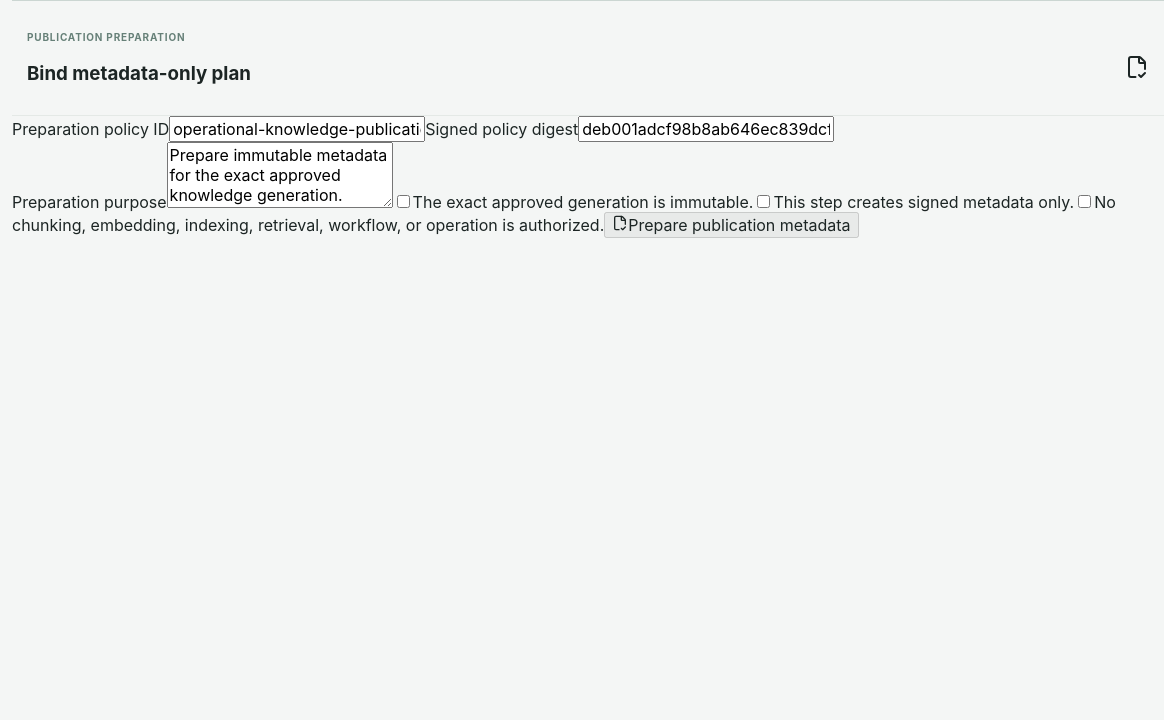
Test: PublicationPreparationPanel › creates metadata-only preparation without processing authority
This screenshot has width=1164, height=720.
Expected: the button "Prepare publication metadata" is disabled, [604,212,858,238]
Click the checkbox labelled "The exact approved generation is immutable." at x=403, y=202, box [397,195,410,208]
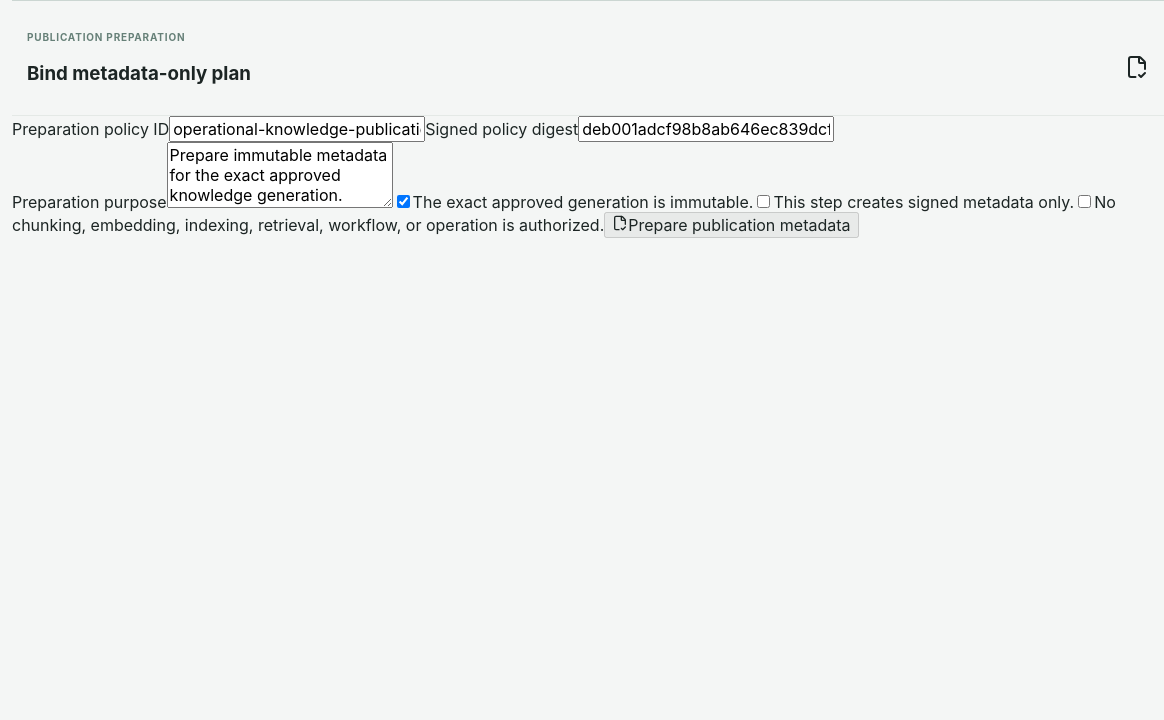
Click the checkbox labelled "This step creates signed metadata only." at x=764, y=202, box [757,195,770,208]
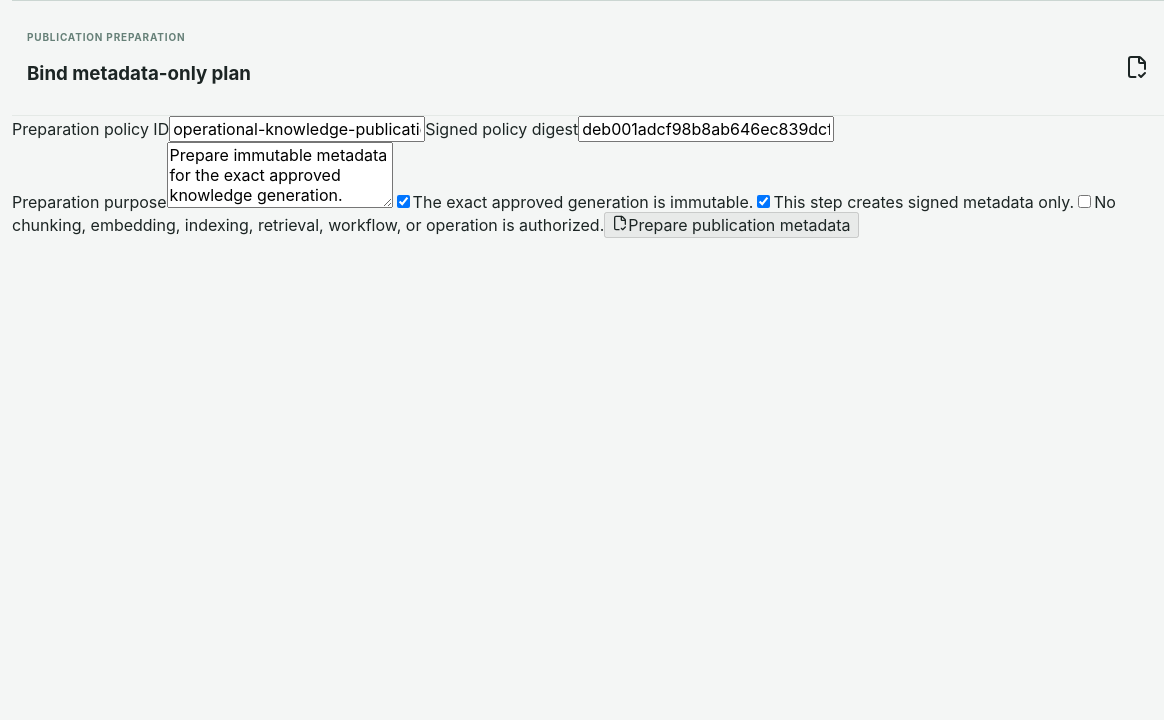
Click the checkbox named "No chunking, embedding, indexing, retrieval, workflow, or operation is authorized." at x=1085, y=202, box [1078,195,1091,208]
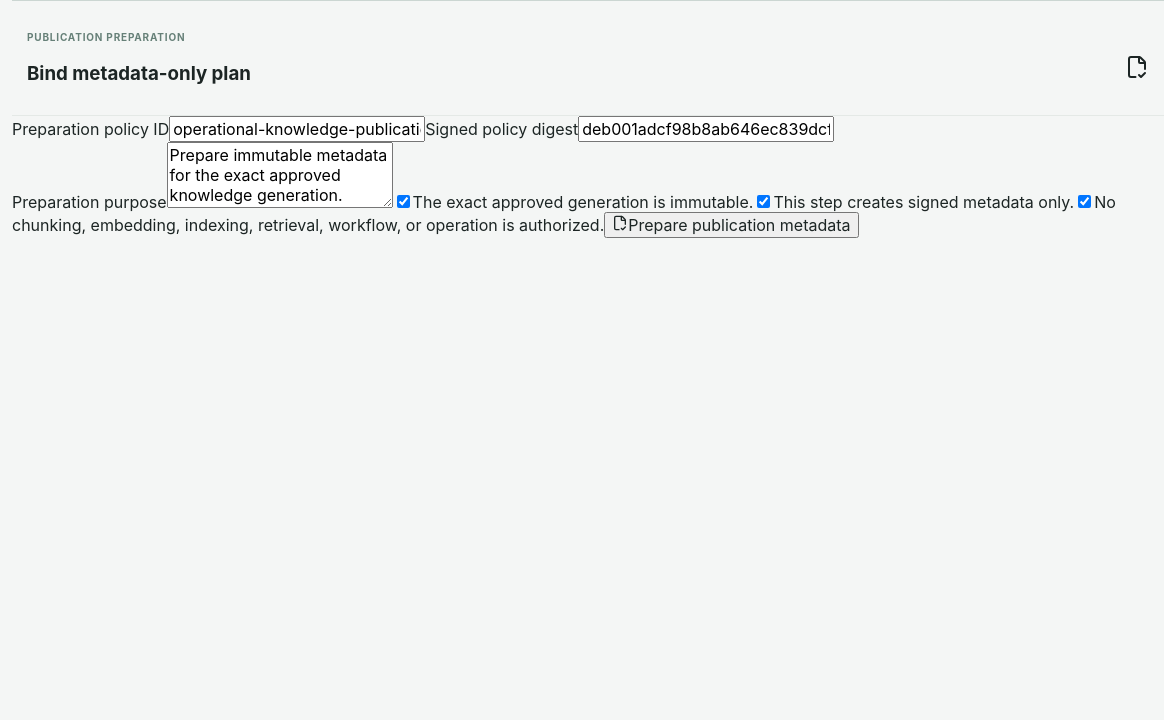
Expected: the button "Prepare publication metadata" is enabled
Click the button "Prepare publication metadata" at x=731, y=225, box [604,212,858,238]
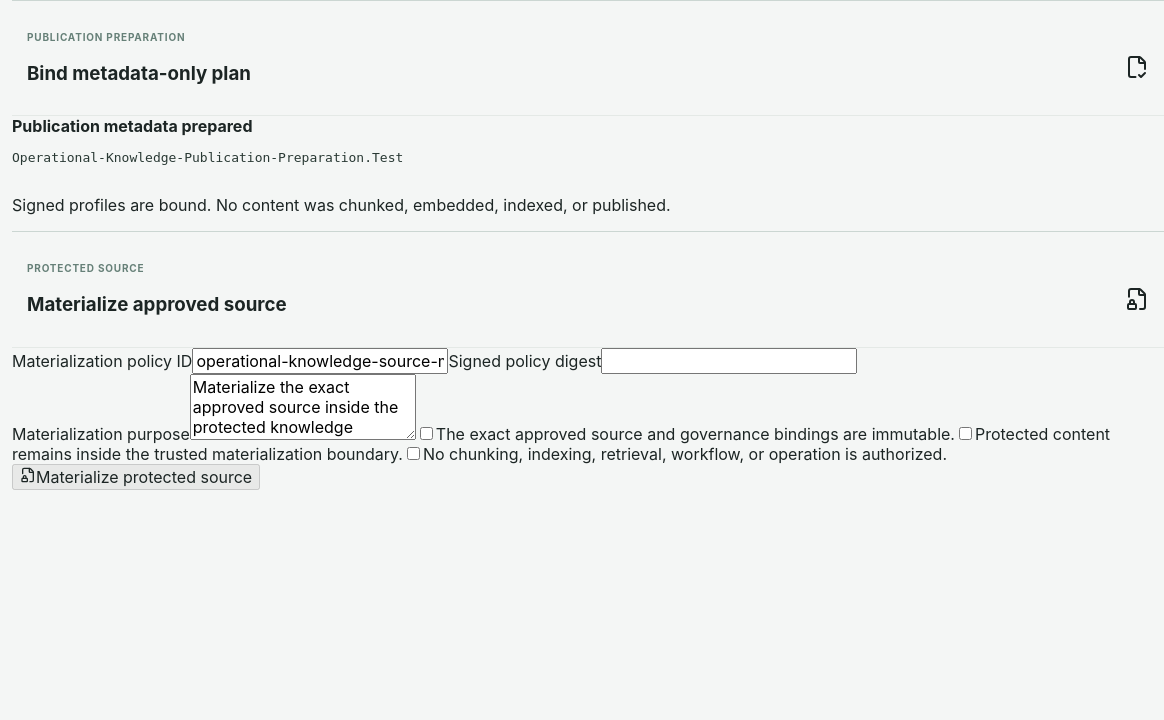
Expected: the text "Publication metadata prepared" is shown, [12,116,252,136]
Expected: the text "No content was chunked, embedded, indexed, or published" is shown, [12,195,671,215]
